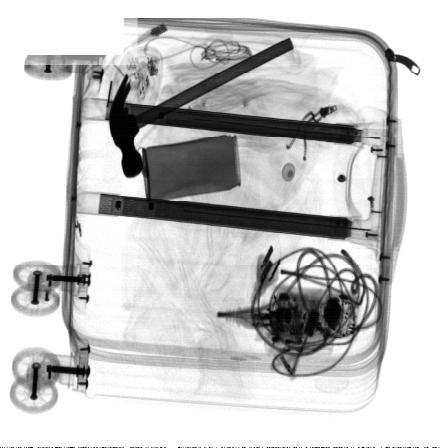Hammer: (108, 37, 294, 179)
